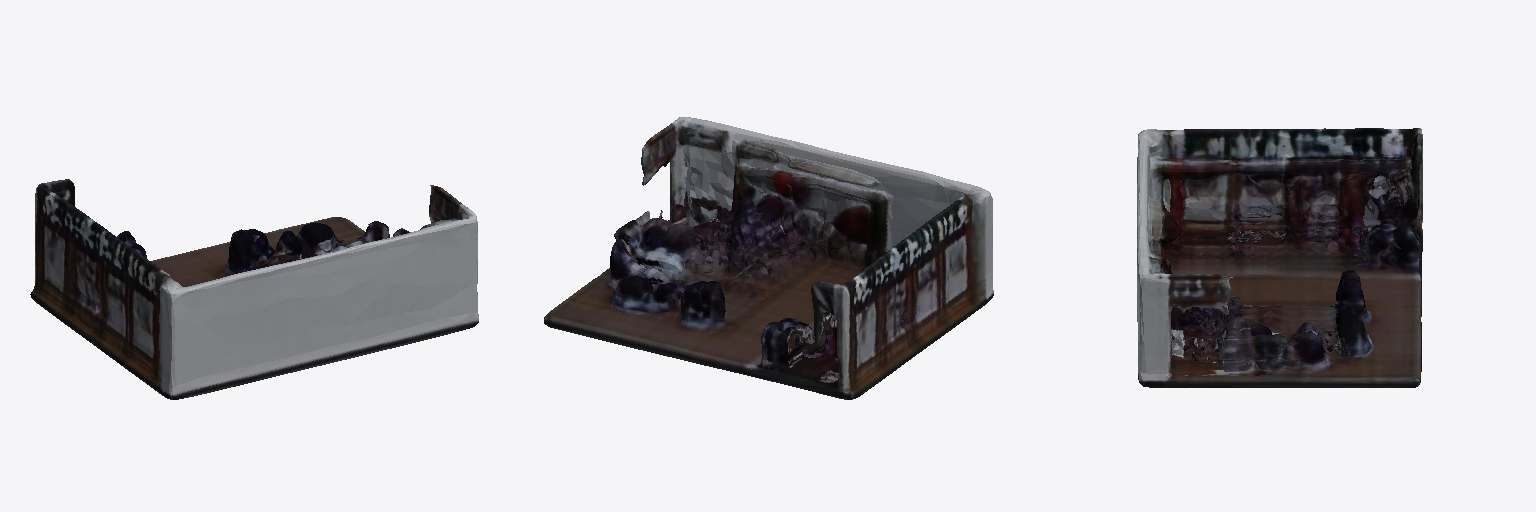
3 views of the same model, side by side, from view 1: azimuth 30°, elevation 25°; view 2: azimuth 150°, elevation 25°; view 3: azimuth 270°, elevation 25° (orthographic).
Parts seen in each view (by area): view 1: mesh; view 2: mesh; view 3: mesh.
Part boxes in pixels (x1,y1,x2,y2): mesh: (30,179,478,399); mesh: (544,117,993,399); mesh: (1137,128,1422,387).
Size of the model in its own units: 0.9994 by 0.35 by 0.7905.
1 materials, 1 textured.